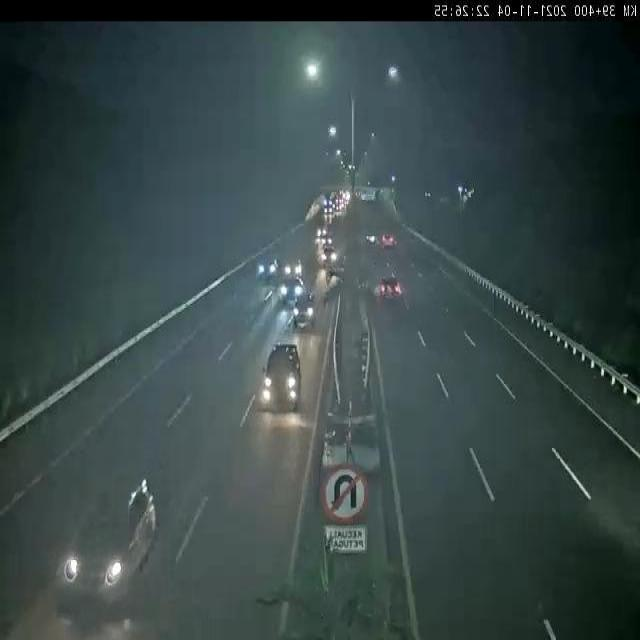Car: (54, 456, 178, 612), (256, 332, 310, 417), (375, 266, 409, 310), (252, 251, 282, 282), (292, 298, 318, 329), (278, 256, 308, 280), (278, 278, 306, 302), (318, 246, 338, 268), (379, 232, 398, 253), (320, 230, 335, 247)
